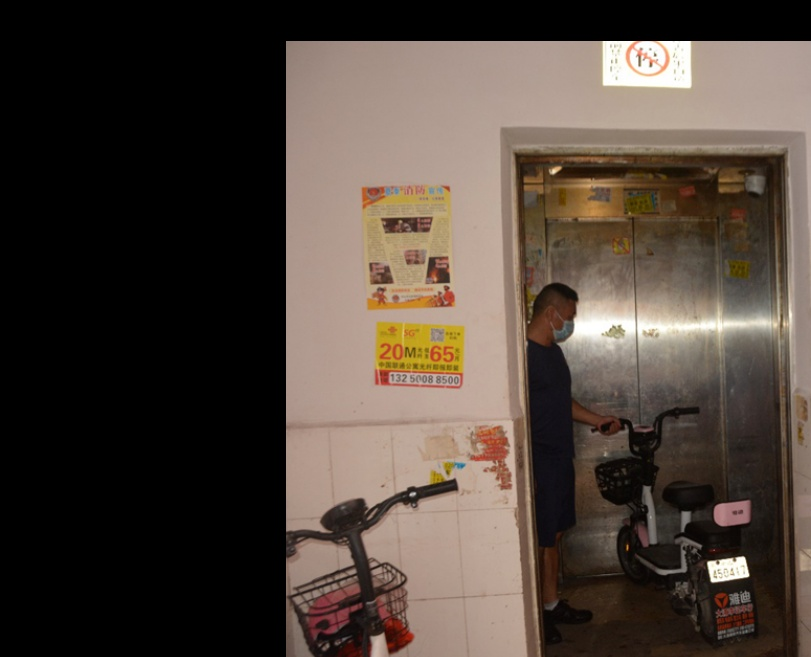ebike: (591, 401, 763, 657), (284, 480, 461, 657)
person: (524, 278, 591, 637)
